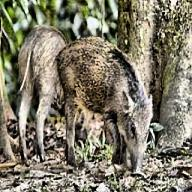boar: (51, 35, 153, 175), (15, 23, 67, 164)
